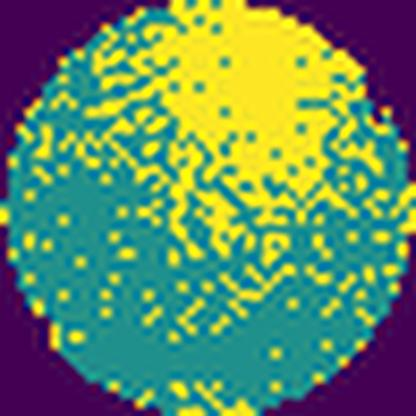Edge-Loc: (102, 0, 378, 233)
